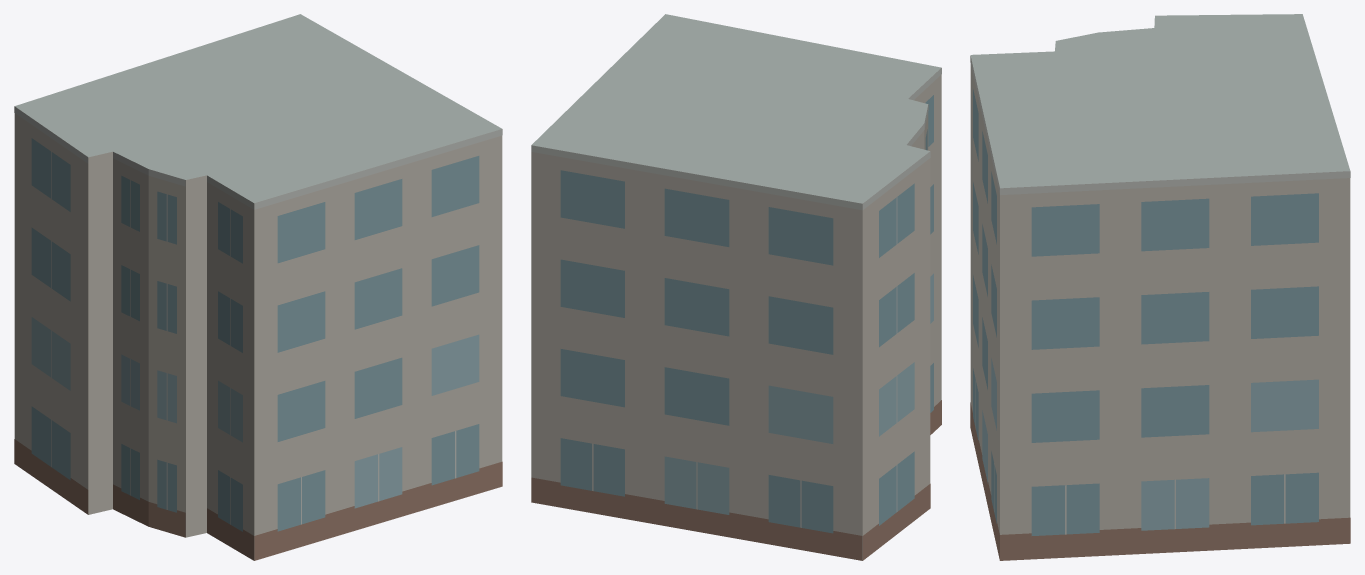
The model's file is survey-upis-32739800.glb.
3 views of the same model, side by side, from view 1: azimuth 30°, elevation 25°; view 2: azimuth 150°, elevation 25°; view 3: azimuth 270°, elevation 25° (orthographic). The views are drawn at different scales.
Visible parts, largest first — view 1: survey-upis-32739800.tmp; view 2: survey-upis-32739800.tmp; view 3: survey-upis-32739800.tmp.
Boxes of the visible parts, x1,y1,x2,y2 form: survey-upis-32739800.tmp: [14, 14, 502, 560]; survey-upis-32739800.tmp: [531, 14, 941, 560]; survey-upis-32739800.tmp: [970, 14, 1350, 560].
Size of the model in its own units: 13.25 by 13.2 by 12.21.
